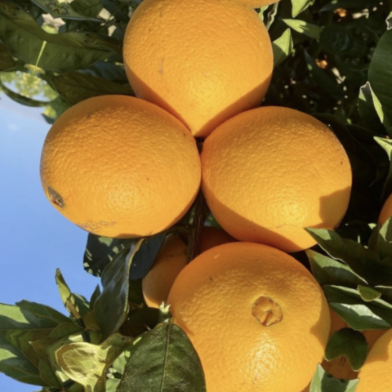orange: (168, 84, 385, 287), (120, 211, 360, 392), (3, 68, 221, 261), (77, 0, 312, 173)
